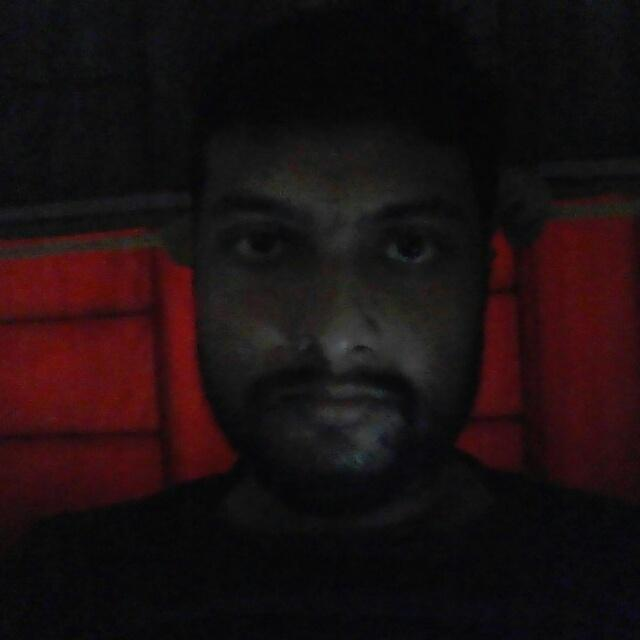Natural: (127, 49, 500, 537)
